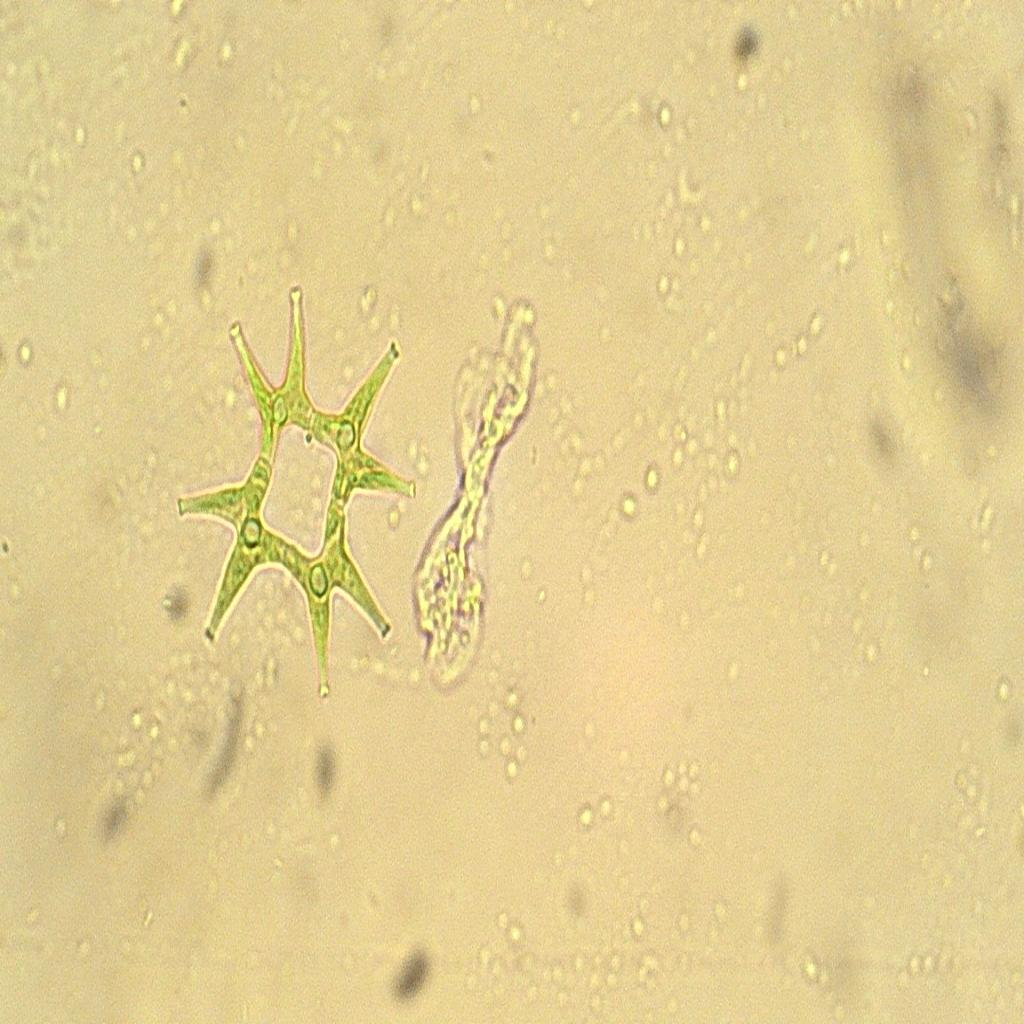Pediastrum_CO: (166, 283, 436, 714)
